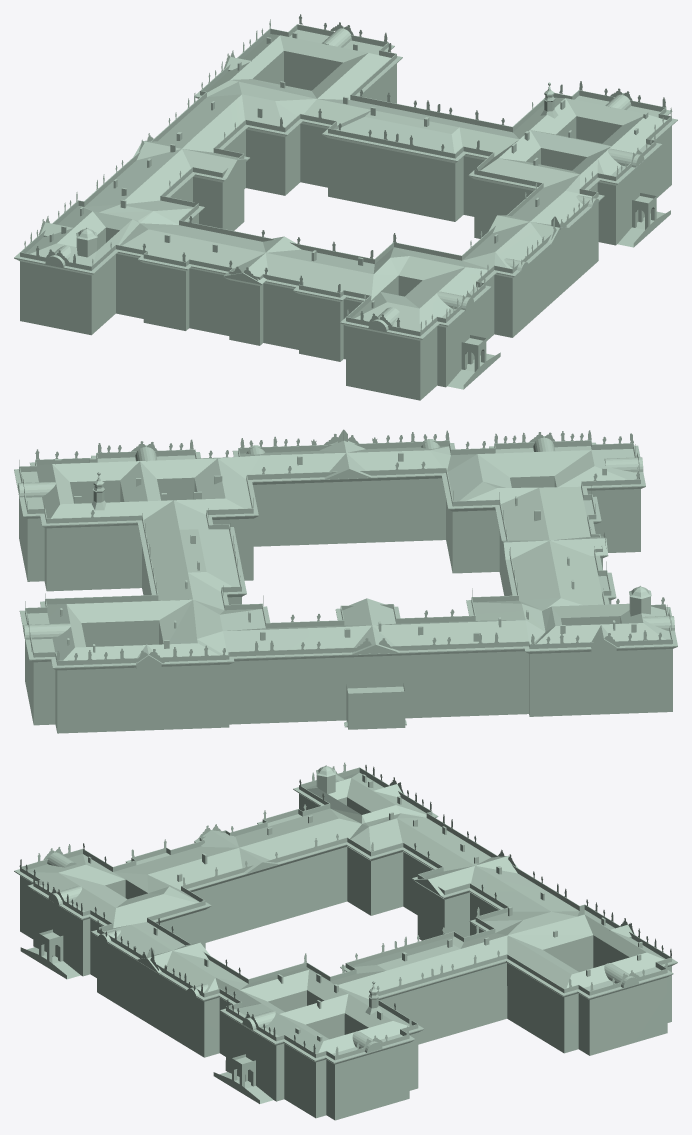
The model's file is herm.dae.
The picture shows the model from 3 angles, top to bottom: view 1: azimuth 30°, elevation 25°; view 2: azimuth 150°, elevation 25°; view 3: azimuth 270°, elevation 25°; orthographic projection. The views are drawn at different scales.
Visible parts, largest first — view 1: Mesh26_Component15_1_hermitage_kmz1_Model; view 2: Mesh26_Component15_1_hermitage_kmz1_Model; view 3: Mesh26_Component15_1_hermitage_kmz1_Model.
Part boxes in pixels (x1,y1,x2,y2): Mesh26_Component15_1_hermitage_kmz1_Model: (14, 14, 677, 400); Mesh26_Component15_1_hermitage_kmz1_Model: (14, 429, 677, 733); Mesh26_Component15_1_hermitage_kmz1_Model: (14, 762, 677, 1120).
Bounding box in the file's own units: 11.13 × 10.62 × 1.69.
